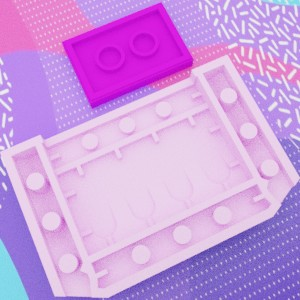lego: (0, 54, 299, 297), (61, 1, 193, 108)
